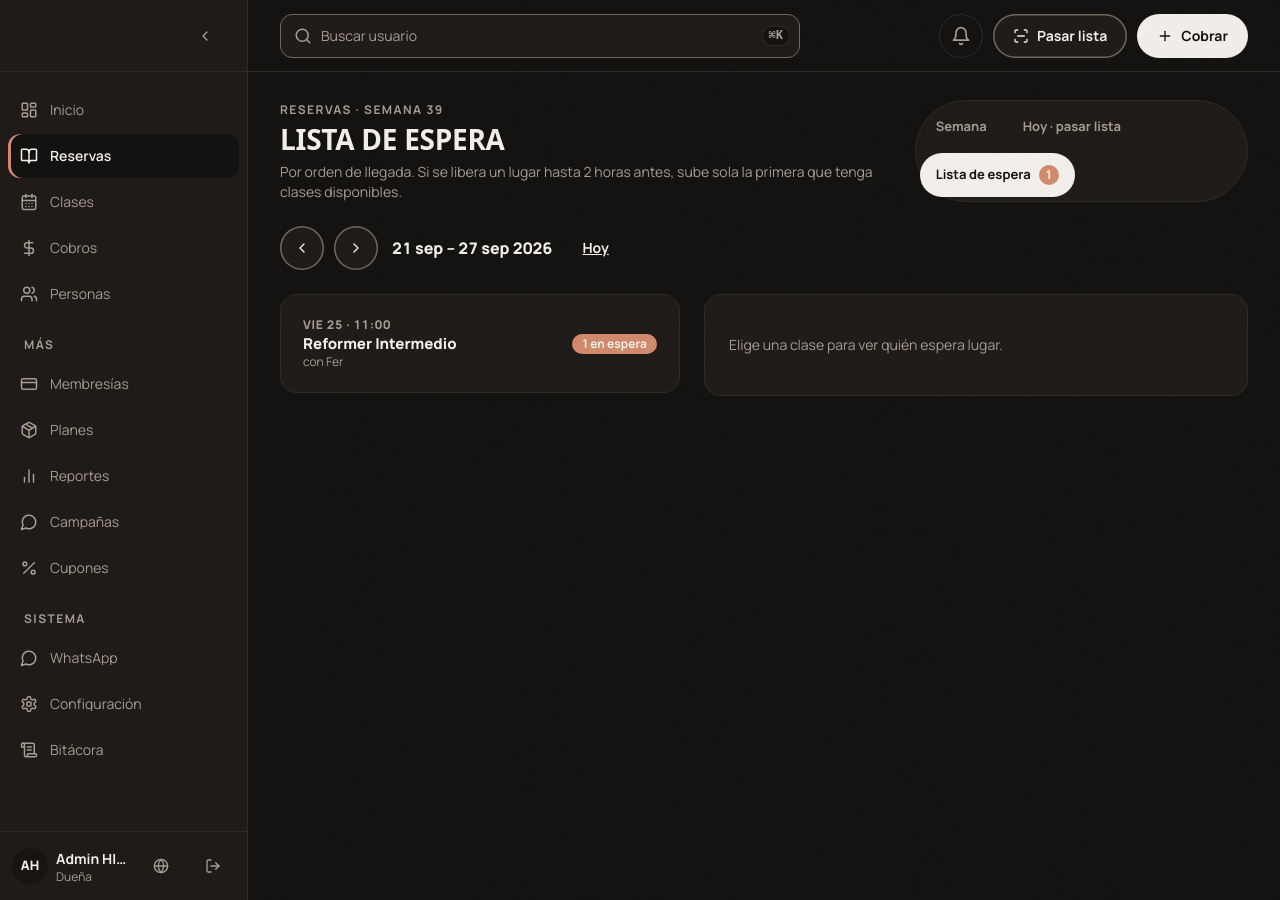
it: Lista de espera › con fila pero un lugar libre (se saltó a alguien), no dice 'llena' porque no lo está
Click the button "vie 25 · 11:00 Reformer Intermedio con Fer 1 en espera" at (323, 324), box [289,303,671,384]
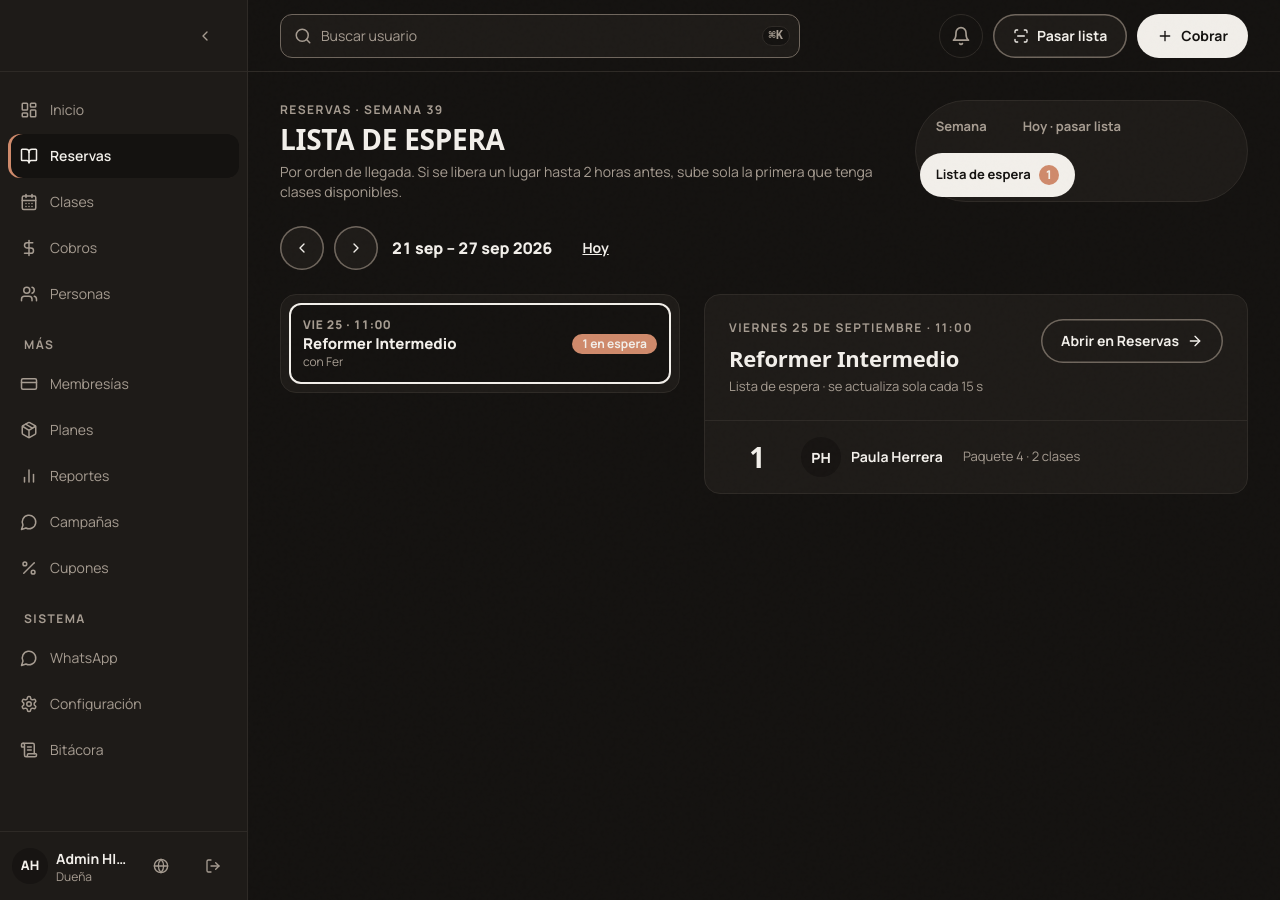
Result: the text "Lista de espera · se actualiza sola cada 15 s" is shown at [729,376,983,396]
